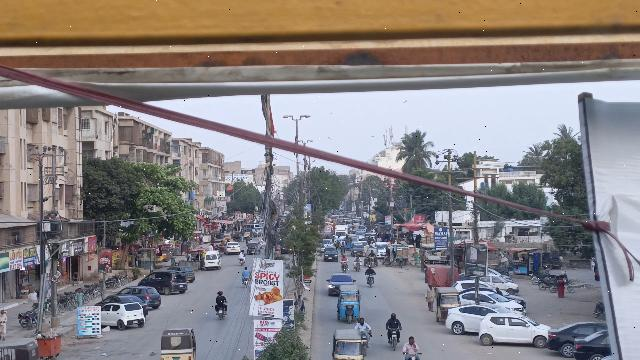Bike: (356, 330, 371, 355), (386, 327, 402, 349), (365, 273, 377, 288), (216, 305, 226, 322)
Car: (476, 311, 551, 349), (546, 320, 603, 356), (444, 303, 502, 334), (460, 290, 528, 316), (99, 302, 147, 330), (137, 270, 189, 295), (570, 329, 611, 360), (118, 284, 164, 309), (96, 295, 148, 308), (326, 274, 352, 295)
Person: (401, 334, 421, 355), (424, 282, 437, 312), (384, 310, 402, 329), (212, 289, 228, 307), (354, 317, 372, 333), (0, 305, 8, 340), (73, 288, 86, 307), (363, 263, 377, 275)
Rickshaw: (157, 326, 199, 360), (330, 328, 364, 360), (335, 285, 364, 322), (434, 287, 460, 323)
